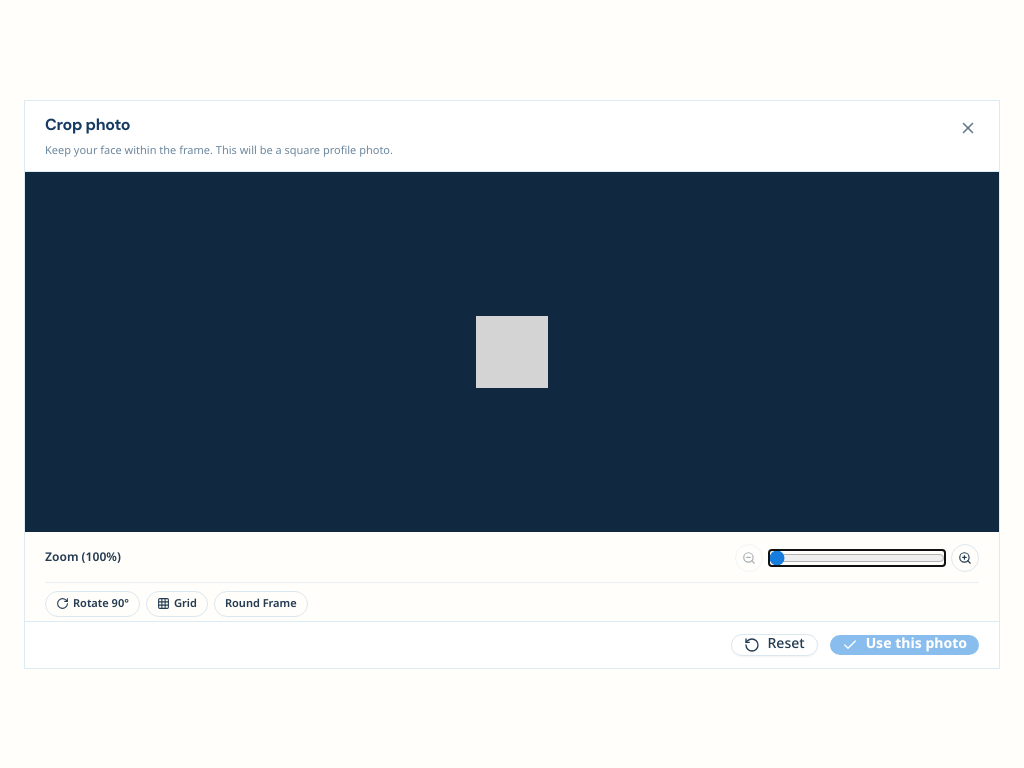
it: TutorProfilePhotoEditor › provides interactive zoom in/out, rotate 90 degrees, and grid toggle controls
The image size is (1024, 768).
Check: the button named "Zoom out" is shown, box [735,544,763,572]
Click the button named "Zoom in". click: point(965, 558)
box: [951,544,979,572]
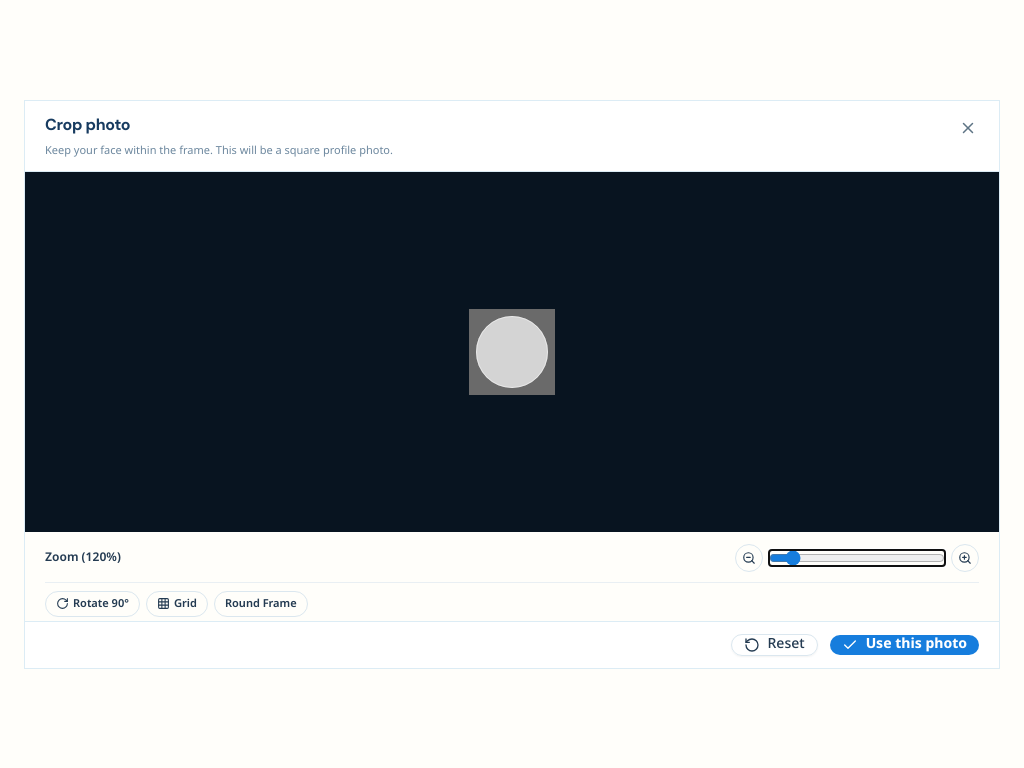
Check: the text "Zoom (120%)" is shown, box [45,550,121,566]
Click the button with aria-label "Rotate 90 degrees clockwise". click: point(92, 604)
box: [45,590,140,616]
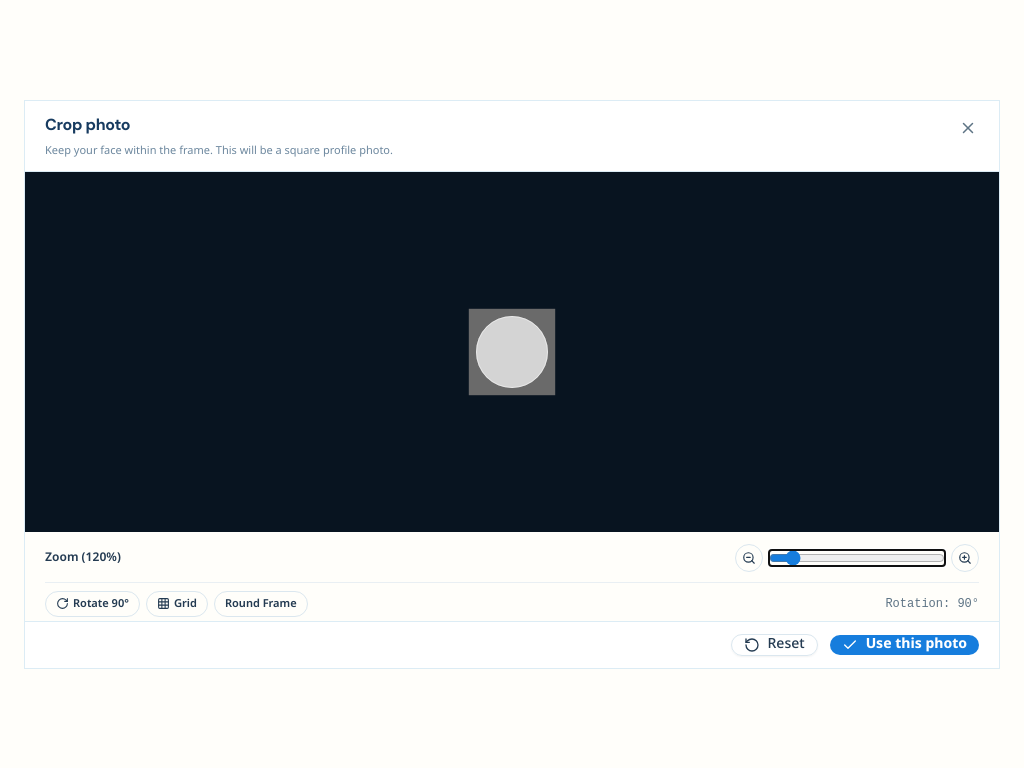
Check: the text "Rotation: 90°" is shown, box [885,596,979,612]
# Toggle grid button
Click the button with aria-label "Toggle grid guidelines". click: point(177, 604)
box: [146,590,208,616]
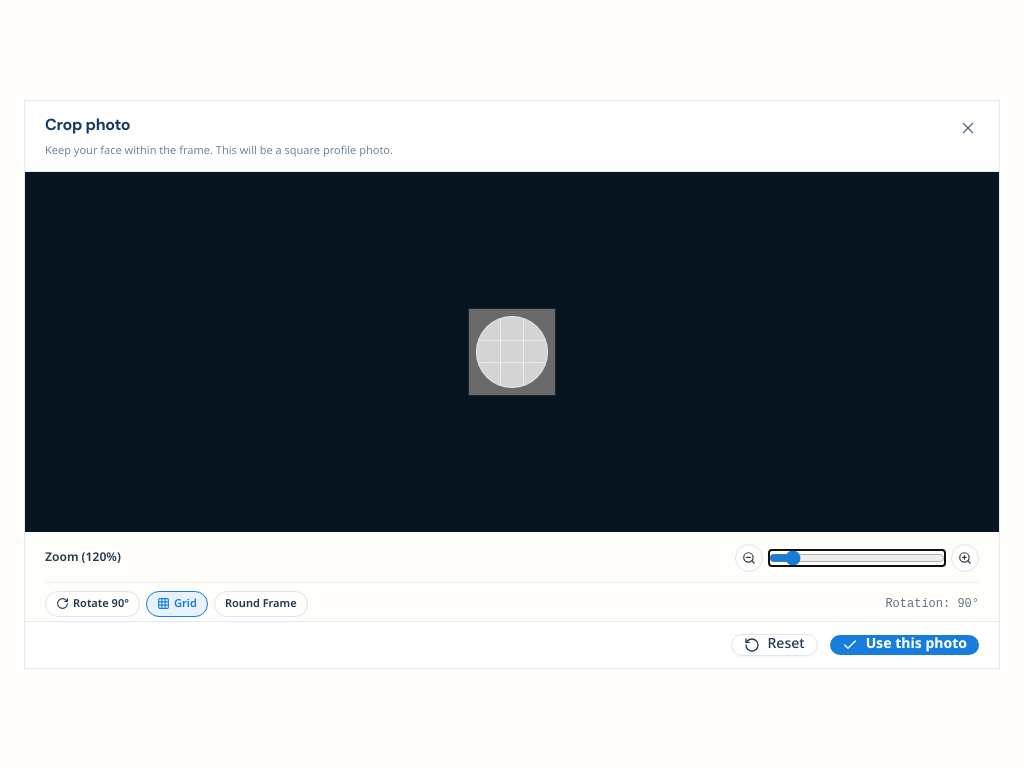
Check: the button with aria-label "Toggle grid guidelines" has class "border-tp-accent", box [146,590,208,616]
# Reset button
Click the button "Reset". click: point(774, 644)
box: [730,634,818,656]
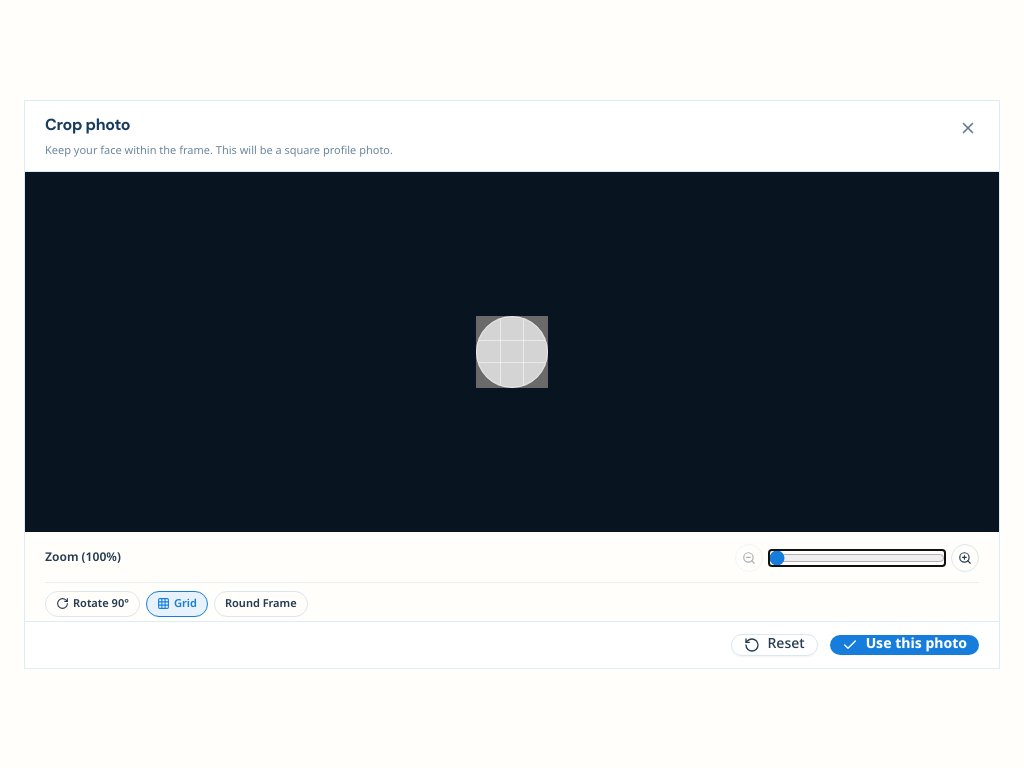
Check: the text "Zoom (100%)" is shown, box [45,550,121,566]
Check: the text "Rotation: 90°" is gone
